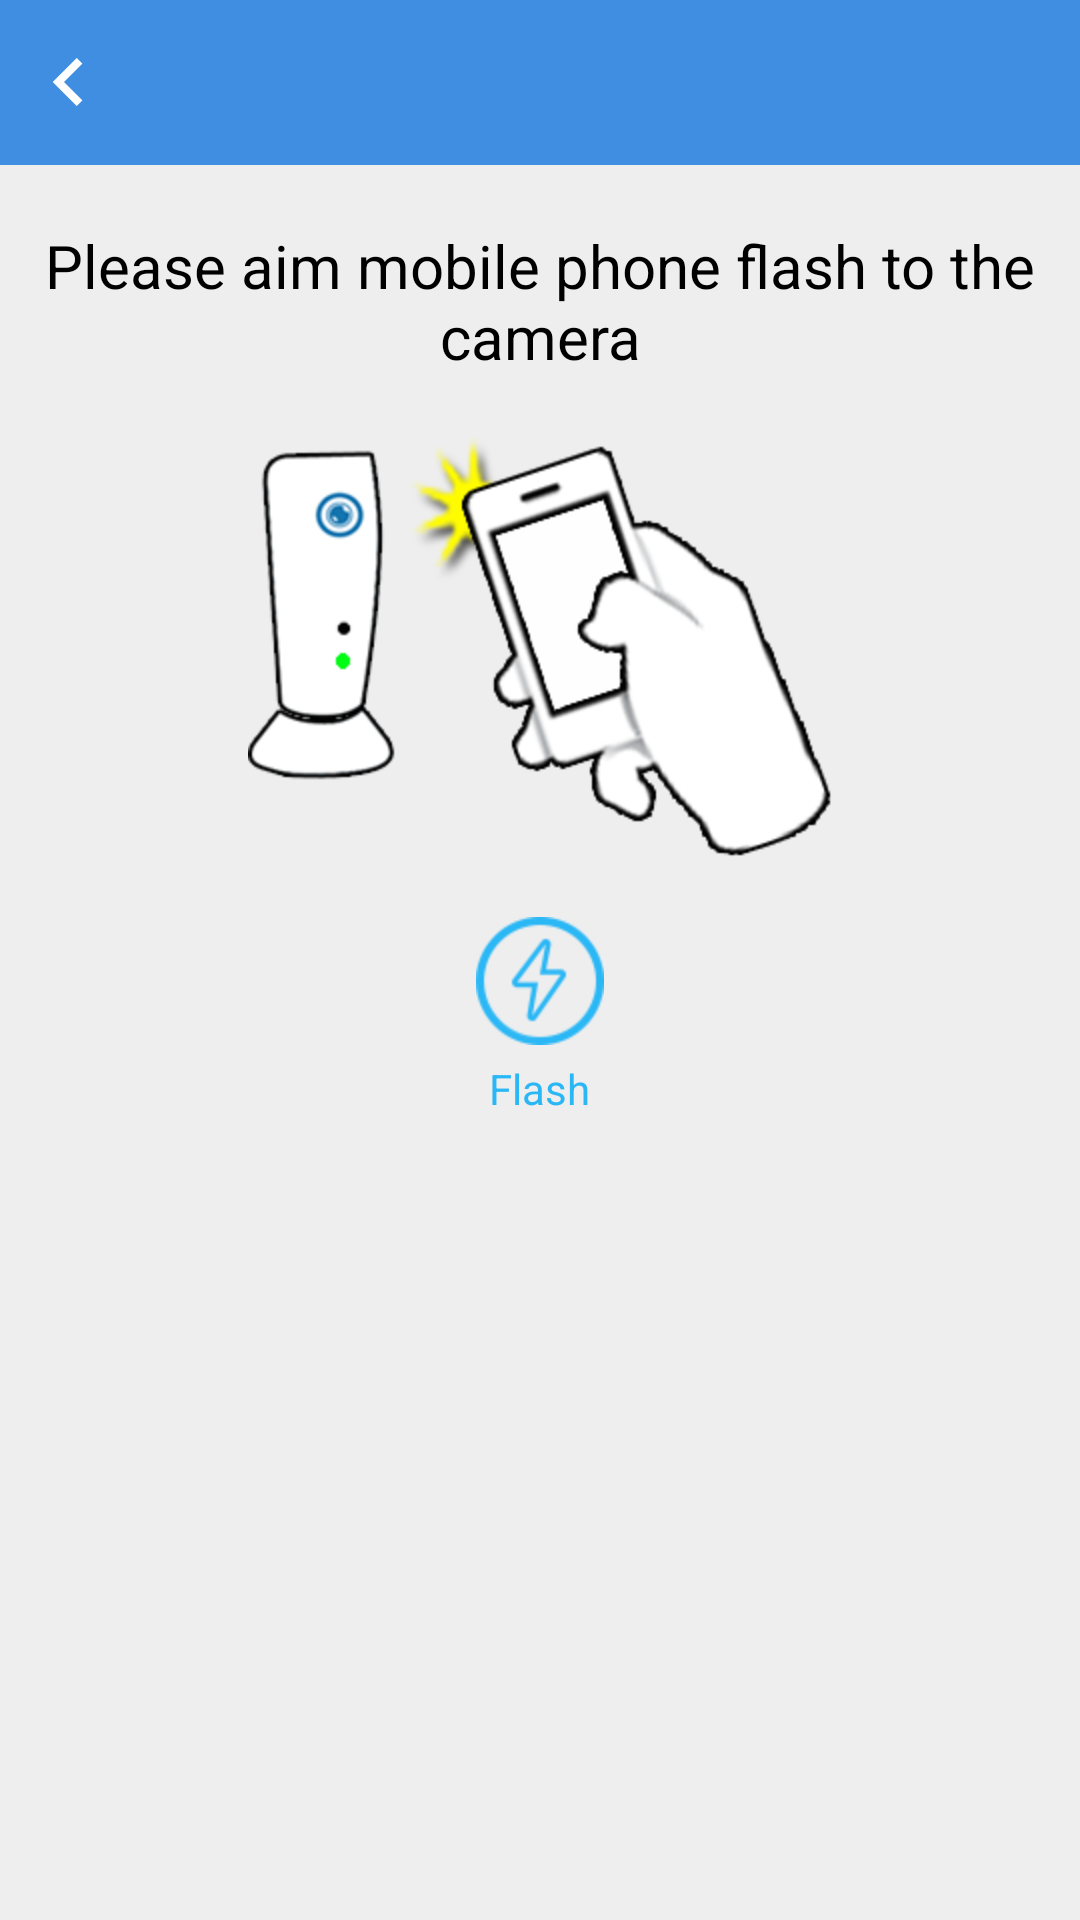

Locate icon controls on the screen. Image size 1080×1920, boxes as (x1, y1, x2, y2).
back: (53, 58, 83, 106)
